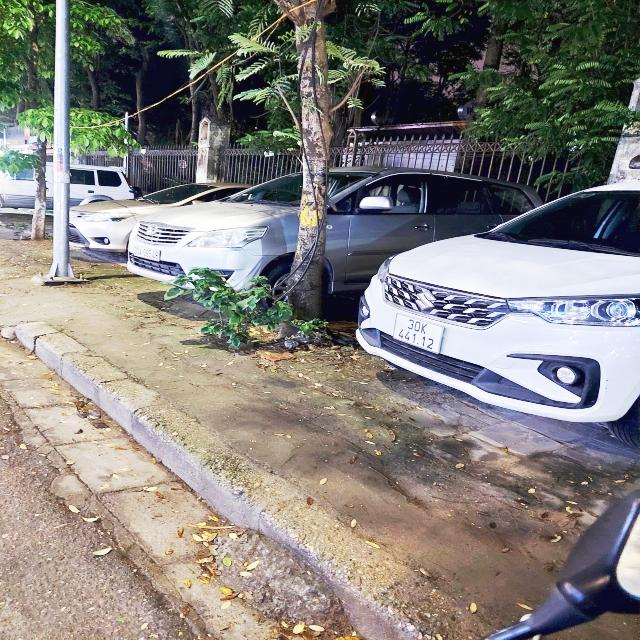license_plate: (392, 312, 448, 355)
